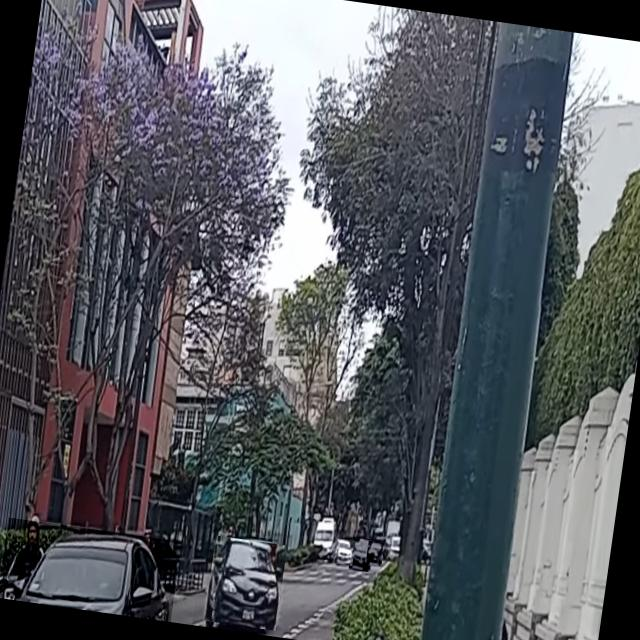car: (0, 518, 181, 622), (204, 536, 287, 630), (349, 537, 373, 572), (335, 539, 356, 566), (366, 541, 384, 564)
